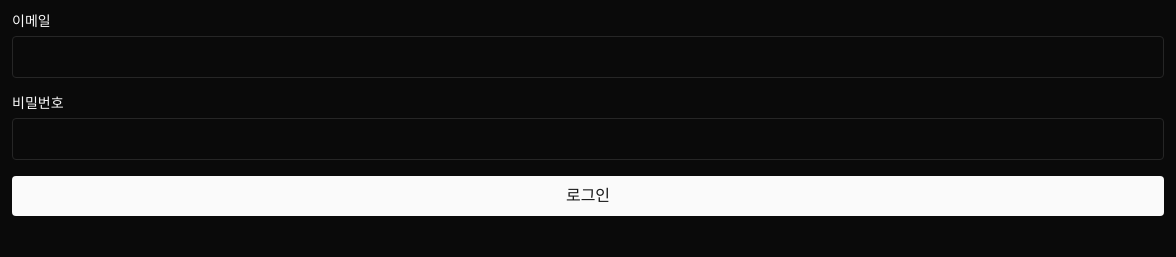
Test: LoginForm 검증 › short password → 8자 이상 에러
The image size is (1176, 257).
Type "admin@pfplay.xyz" into the field labelled "이메일" at (588, 57), box [12,36,1164,78]
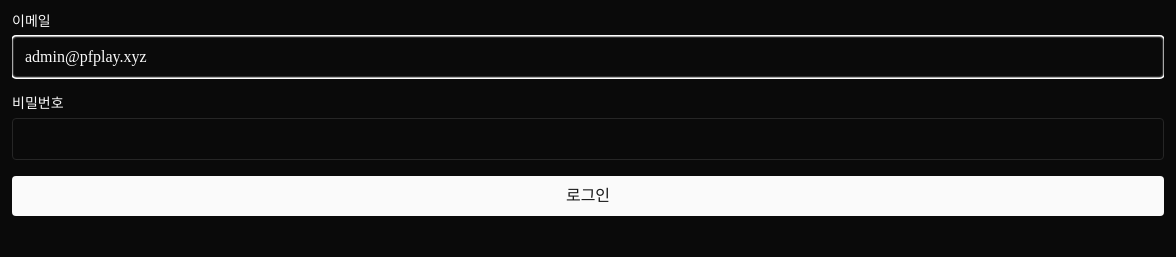
Type "short" into the password field labelled "비밀번호" at (588, 139), box [12,118,1164,160]
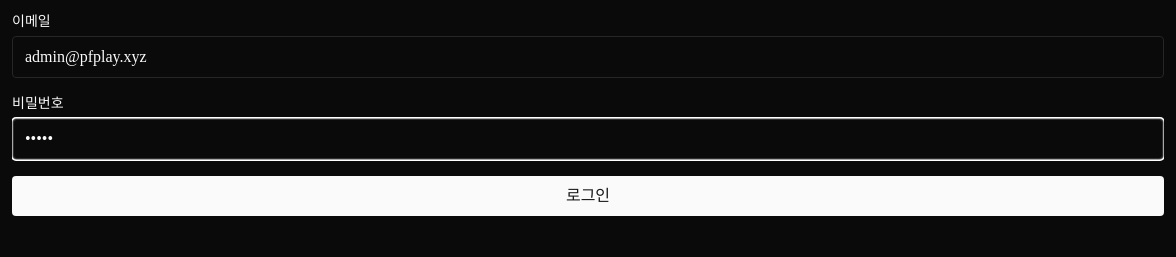
Click the button "로그인" at (588, 196), box [12,176,1164,216]
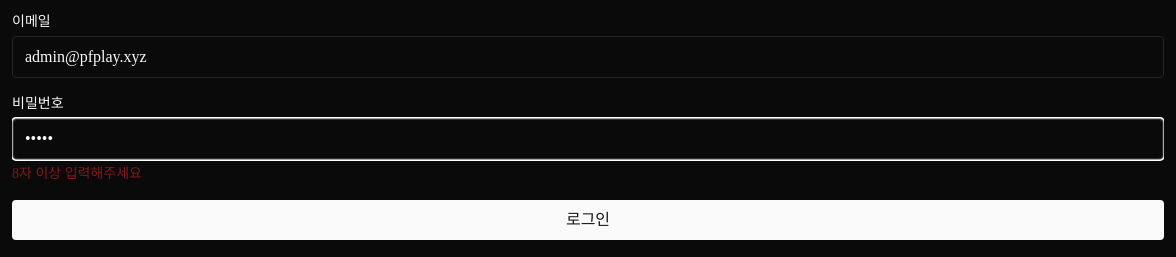
Expected: the text "8자 이상 입력해주세요" is shown, [12,166,142,181]
